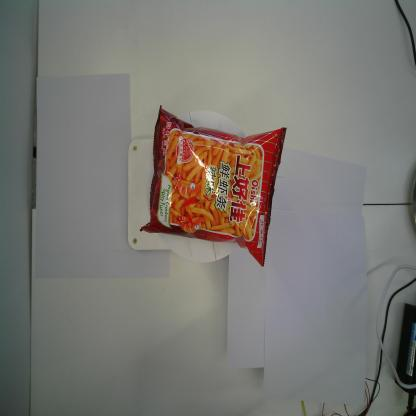Puffed Food: (140, 106, 287, 268)
